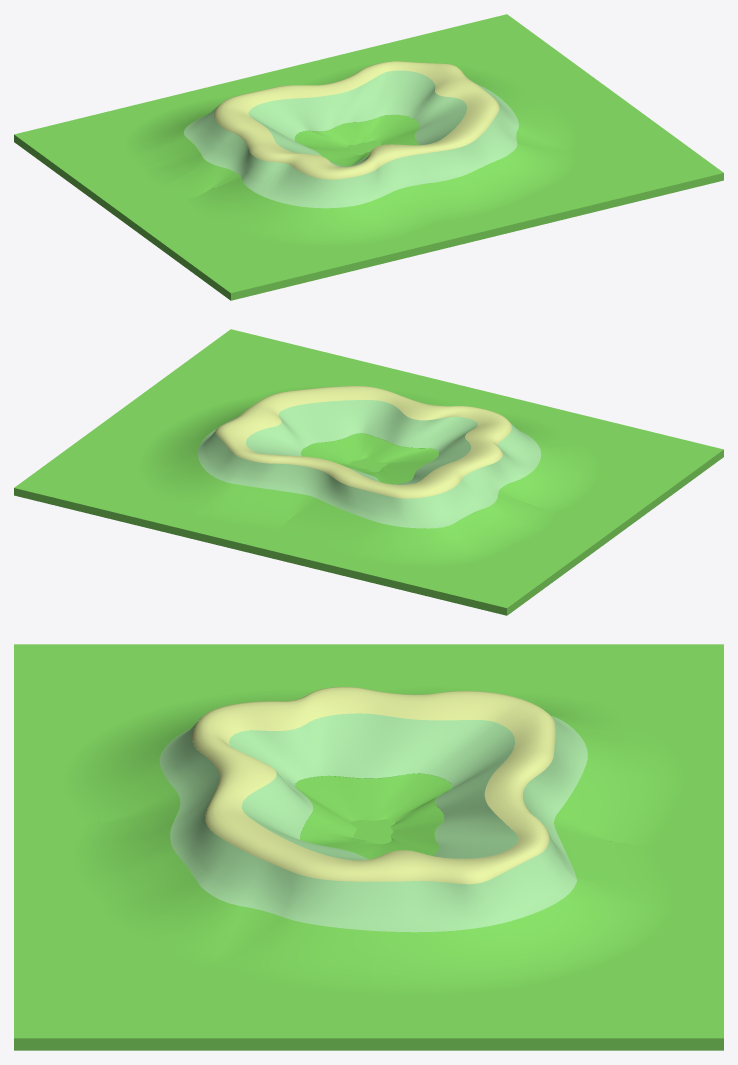
The model's file is basin.fbx.
3 renders of one model, top to bottom at view 1: azimuth 30°, elevation 25°; view 2: azimuth 150°, elevation 25°; view 3: azimuth 270°, elevation 25°, orthographic. The views are drawn at different scales.
Parts seen in each view (by area): view 1: 物件_3, 物件_1, 物件_2; view 2: 物件_3, 物件_1, 物件_2; view 3: 物件_3, 物件_1, 物件_2.
Part boxes in pixels (box(x1,y1,x2,y2)): 物件_3: box(14, 14, 723, 300); 物件_1: box(184, 70, 518, 208); 物件_2: box(214, 61, 499, 179); 物件_3: box(14, 329, 723, 615); 物件_1: box(197, 400, 541, 528); 物件_2: box(215, 386, 511, 498); 物件_3: box(14, 644, 723, 1050); 物件_1: box(159, 713, 587, 932); 物件_2: box(192, 687, 555, 884).
Size of the model in its own units: 49.06 by 37.38 by 4.45.
